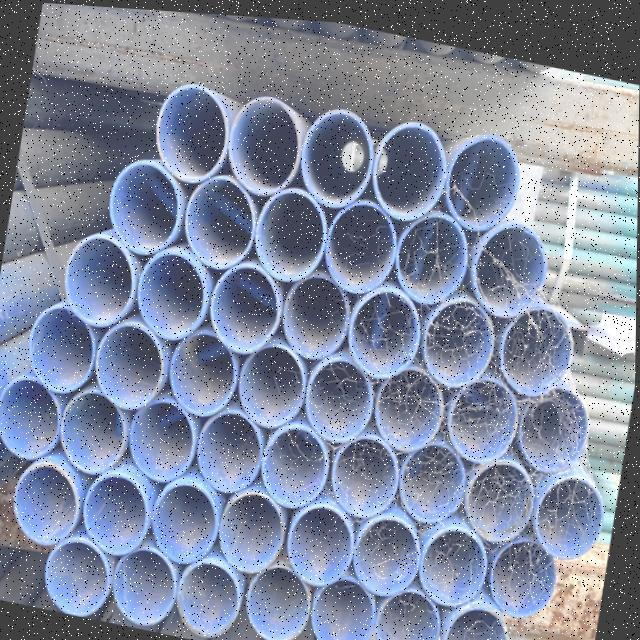pipe: (151, 79, 240, 189), (224, 87, 311, 198), (438, 128, 524, 229), (181, 169, 258, 274), (60, 229, 138, 331), (370, 114, 446, 218), (298, 103, 374, 207), (106, 156, 180, 262), (252, 182, 327, 285), (475, 214, 553, 312), (418, 288, 497, 384), (130, 248, 208, 345), (205, 258, 282, 356), (92, 315, 166, 416), (24, 299, 98, 400), (347, 278, 424, 375), (396, 205, 472, 302), (327, 189, 399, 291), (498, 297, 573, 392), (444, 368, 518, 461), (54, 385, 126, 480), (167, 326, 239, 419), (372, 360, 444, 451), (235, 337, 307, 428), (255, 420, 329, 508), (279, 270, 351, 360), (150, 478, 221, 569), (536, 461, 606, 553), (125, 395, 198, 483), (517, 379, 589, 467), (193, 405, 265, 493), (216, 486, 288, 574), (304, 353, 375, 442), (286, 498, 357, 587), (462, 453, 537, 537), (398, 437, 472, 521), (331, 428, 400, 516), (352, 512, 423, 597), (420, 519, 492, 601), (490, 530, 561, 613), (82, 471, 152, 555), (175, 558, 245, 639), (12, 461, 80, 544), (110, 545, 177, 627), (246, 561, 315, 640), (0, 378, 62, 464), (43, 537, 111, 615), (311, 573, 378, 640), (369, 583, 442, 640), (442, 599, 509, 640)
